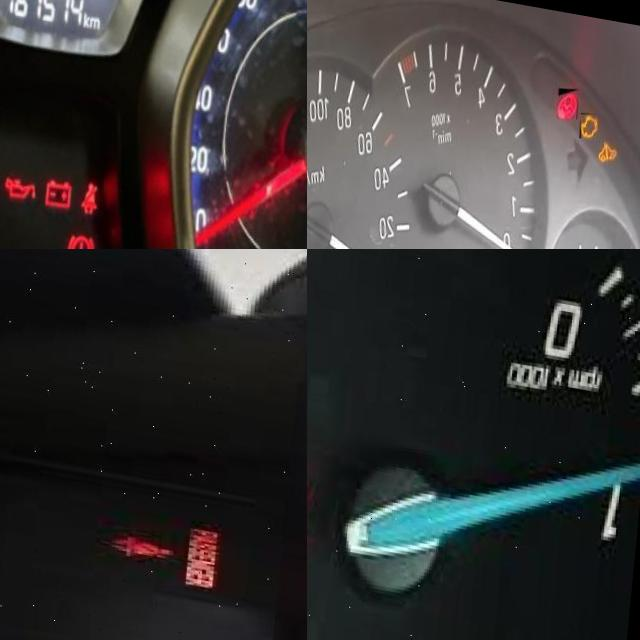Seat Belt: (117, 522, 182, 556)
